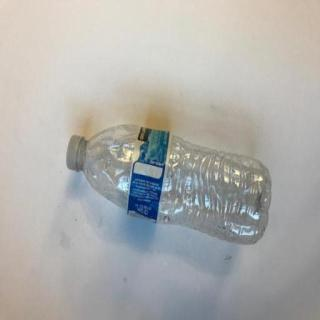Anorganik: (69, 125, 270, 249)
